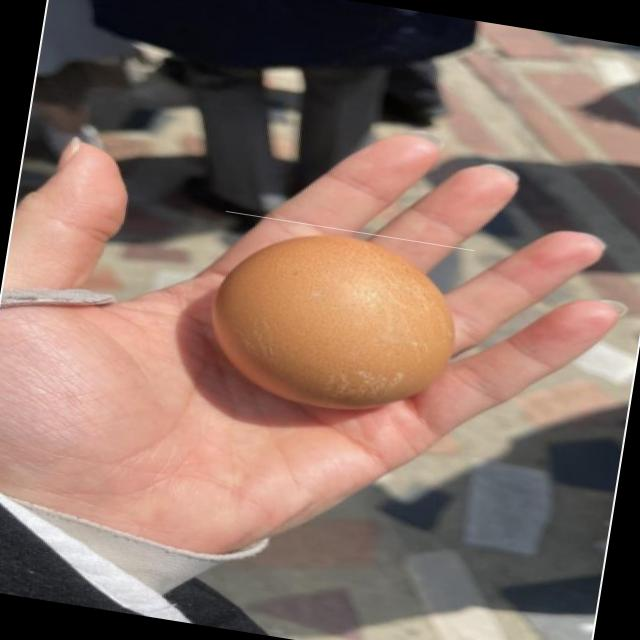eggs: (198, 211, 474, 425)
